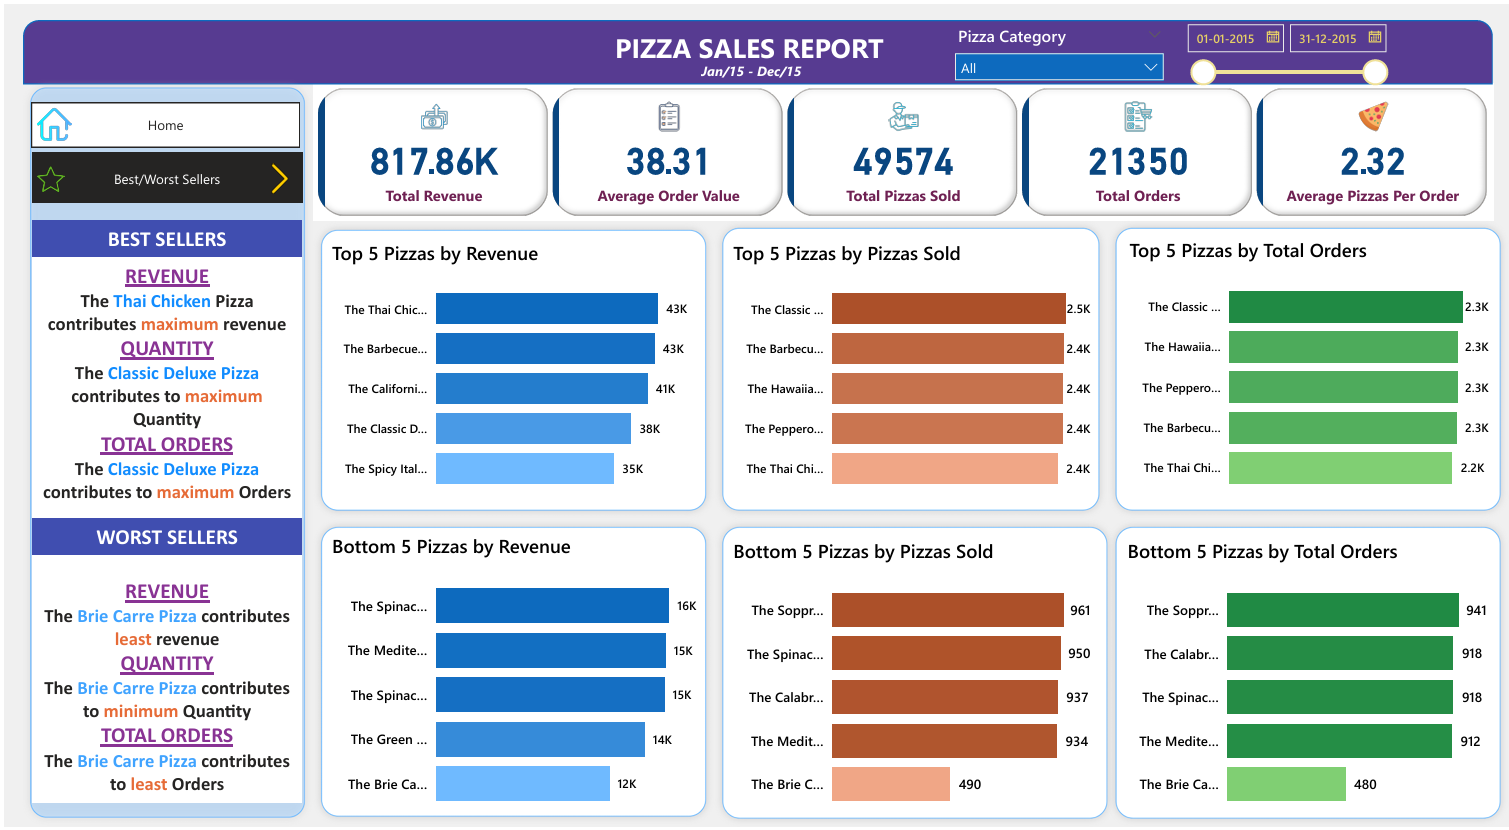

Layout of this report page (visuals, bound fields, positions):
{"tool":"powerbi","page":{"name":"Best/Worst Sellers","canvas":[1500,820],"ordinal":1},"visuals":[{"type":"cardVisual","fields":{"Data":["pizza_sales.Total_Revenue","pizza_sales.Average_Order_Value","pizza_sales.Total_Pizzas_Sold","pizza_sales.Total_Orders","pizza_sales.Average_Pizzas_Per_Order"]},"box":[307.8,79.4,1176.8,136.5],"z":0},{"type":"shape","box":[18.6,15.7,1465,64.3],"z":1000},{"type":"textbox","box":[604.3,20,291.4,55.7],"z":2000},{"type":"textbox","box":[690,52.9,120,44.3],"z":3000},{"type":"shape","box":[308.3,216.7,400,296.7],"z":4000},{"type":"shape","box":[18.1,75.2,289.7,743.7],"z":13000},{"type":"textbox","box":[27.9,215.9,268.8,37.6],"z":15000},{"type":"textbox","box":[28.3,253.3,268.3,260],"z":16000},{"type":"textbox","box":[28.3,513.3,268.3,36.7],"z":17000},{"type":"textbox","box":[28.3,550,268.3,246.7],"z":18000},{"type":"slicer","fields":{"Values":["pizza_sales.pizza_category"]},"box":[938,16,228,60],"z":19000},{"type":"slicer","fields":{"Values":["pizza_sales.order_date"]},"box":[1166.7,10,221.7,75],"z":20000},{"type":"shape","box":[708.3,215,391.7,298.3],"z":20001},{"type":"shape","box":[1100,215,400,298.3],"z":20002},{"type":"shape","box":[308.3,513.3,400,305],"z":20003},{"type":"shape","box":[708.3,513.3,400,306.7],"z":20004},{"type":"shape","box":[1100,513.3,400,306.7],"z":20005},{"type":"barChart","title":"Top 5 Pizzas by Revenue","fields":{"Category":["pizza_sales.pizza_name"],"Y":["pizza_sales.Total Revenue"]},"box":[321.7,235,386.7,265],"z":20006},{"type":"barChart","title":"Bottom 5 Pizzas by Revenue","fields":{"Category":["pizza_sales.pizza_name"],"Y":["pizza_sales.Total Revenue"]},"box":[321.7,526.7,386.7,291.7],"z":20007},{"type":"barChart","title":"Top 5 Pizzas by Pizzas Sold","fields":{"Category":["pizza_sales.pizza_name"],"Y":["pizza_sales.Total Pizzas Sold"]},"box":[721.7,235,366.7,265],"z":20008},{"type":"barChart","title":"Bottom 5 Pizzas by Pizzas Sold","fields":{"Category":["pizza_sales.pizza_name"],"Y":["pizza_sales.Total Pizzas Sold"]},"box":[721.7,531.7,366.7,286.7],"z":20009},{"type":"barChart","title":"Top 5 Pizzas by Total Orders","fields":{"Category":["pizza_sales.pizza_name"],"Y":["pizza_sales.Total Orders"]},"box":[1116.7,231.7,368.3,268.3],"z":20010},{"type":"barChart","title":"Bottom 5 Pizzas by Total Orders","fields":{"Category":["pizza_sales.pizza_name"],"Y":["pizza_sales.Total Orders"]},"box":[1115,531.7,368.3,286.7],"z":20011},{"type":"pageNavigator","box":[28.3,148.3,268.3,50],"z":20012},{"type":"pageNavigator","box":[26.7,98.3,268.3,45],"z":20013},{"type":"image","box":[255,151.7,40,43.3],"z":20014},{"type":"image","box":[28.3,98.3,43.3,43.3],"z":20015},{"type":"image","box":[28.3,153.3,36.7,41.7],"z":20016}]}

Visuals, with their boxes in screenshot pixels (x1, y1, x2, y2), scaled from the page's 1500x820 canvas onto the 1509x830 screenshot:
cardVisual - pizza_sales.Total_Revenue x pizza_sales.Average_Order_Value: 310, 80, 1494, 219
shape: 19, 16, 1493, 81
textbox: 608, 20, 901, 77
textbox: 694, 54, 815, 98
shape: 310, 219, 713, 520
shape: 18, 76, 310, 829
textbox: 28, 219, 298, 257
textbox: 28, 256, 298, 520
textbox: 28, 520, 298, 557
textbox: 28, 557, 298, 806
slicer - pizza_sales.pizza_category: 944, 16, 1173, 77
slicer - pizza_sales.order_date: 1174, 10, 1397, 86
shape: 713, 218, 1107, 520
shape: 1107, 218, 1508, 520
shape: 310, 520, 713, 828
shape: 713, 520, 1115, 829
shape: 1107, 520, 1508, 829
"Top 5 Pizzas by Revenue" barChart: 324, 238, 713, 506
"Bottom 5 Pizzas by Revenue" barChart: 324, 533, 713, 828
"Top 5 Pizzas by Pizzas Sold" barChart: 726, 238, 1095, 506
"Bottom 5 Pizzas by Pizzas Sold" barChart: 726, 538, 1095, 828
"Top 5 Pizzas by Total Orders" barChart: 1123, 235, 1494, 506
"Bottom 5 Pizzas by Total Orders" barChart: 1122, 538, 1492, 828
pageNavigator: 28, 150, 298, 201
pageNavigator: 27, 99, 297, 145
image: 257, 154, 297, 197
image: 28, 99, 72, 143
image: 28, 155, 65, 197
